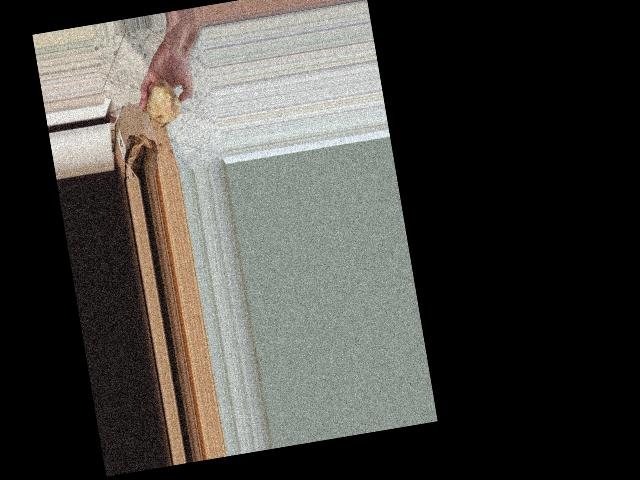onion: (139, 74, 185, 128)
